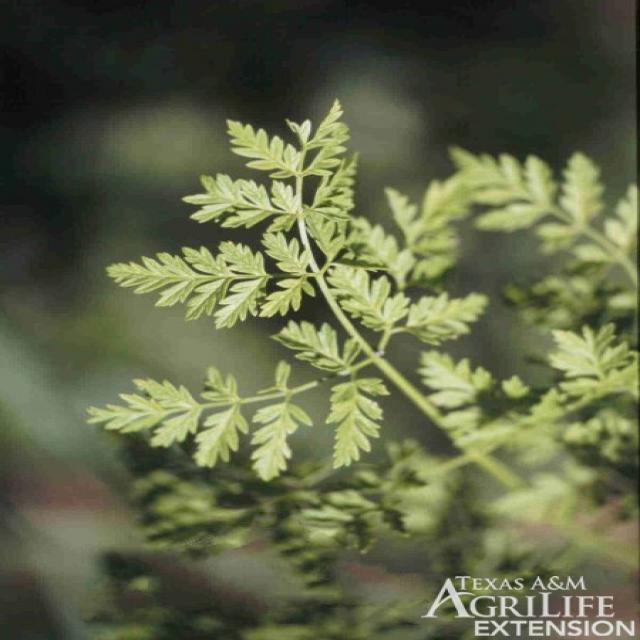Poisonous-Hemlock: (78, 106, 640, 560)
